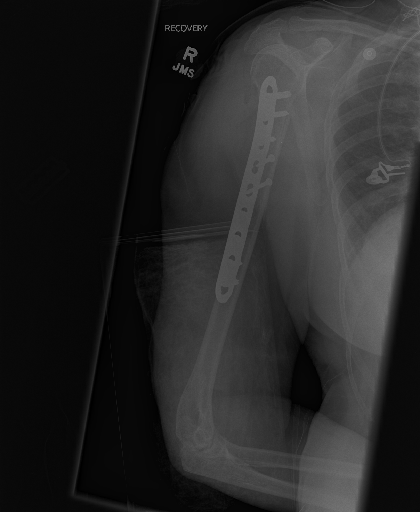implant: (216, 73, 294, 303)
